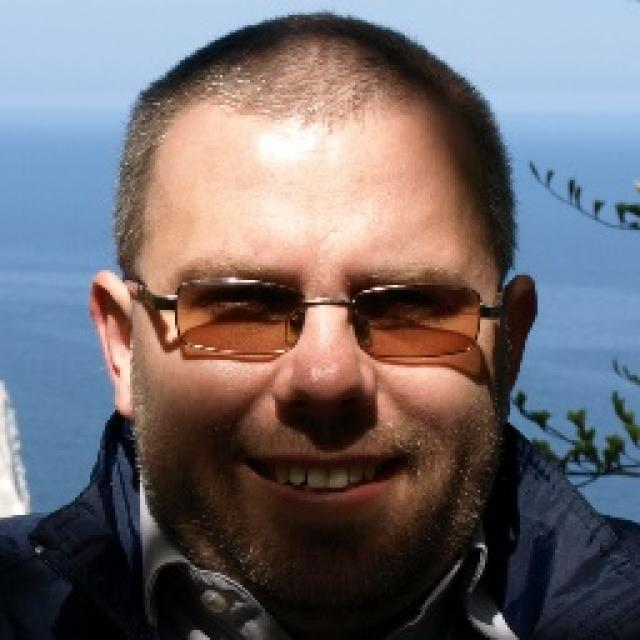earlobe: (114, 386, 132, 420), (500, 401, 513, 426)
eye: (200, 284, 274, 308), (369, 294, 438, 316)
nose: (276, 401, 374, 448)
wholeear: (90, 271, 138, 421), (496, 273, 542, 429)
